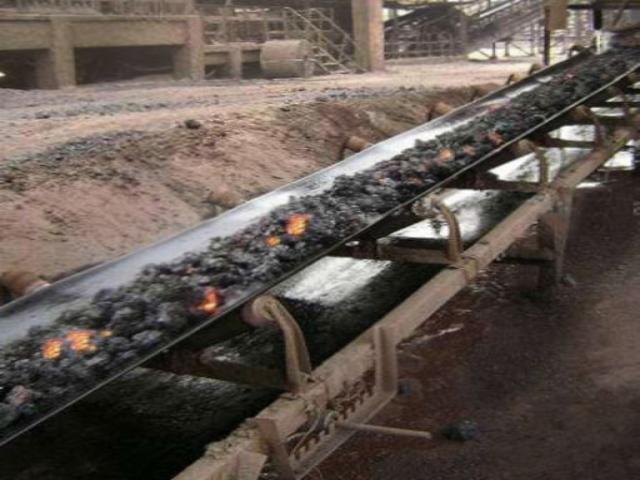conveyor: (0, 20, 639, 479)
